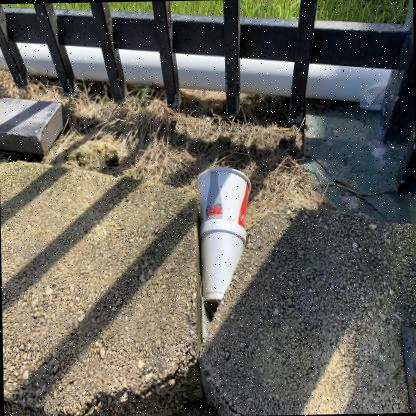Foam cup: (199, 219, 246, 303)
Paper cup: (196, 166, 251, 228)
Plastic film: (201, 296, 209, 340)
Unlabeled litter: (359, 78, 388, 110)
